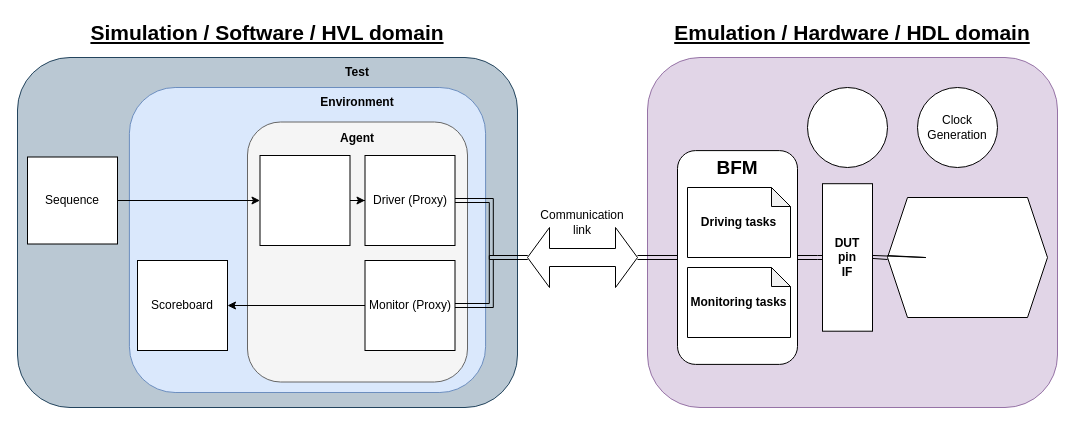
Image size: 1075x425. Some labels were removed from this diagram. The centre of each missing label's shape, as x and y in pixels:
DUT: pixel 967 257
Reset Generation: pixel 847 127
SCE-MI: pixel 582 257
Sequencer: pixel 304 200
